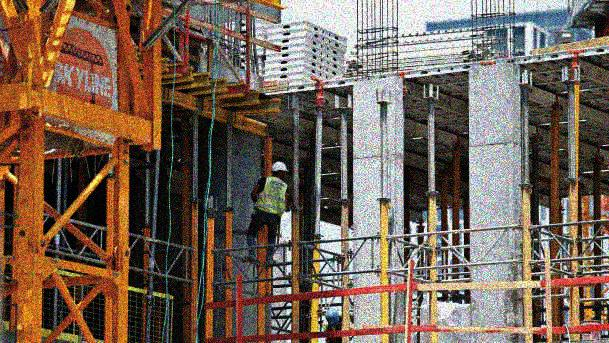helmet: (269, 159, 288, 180)
